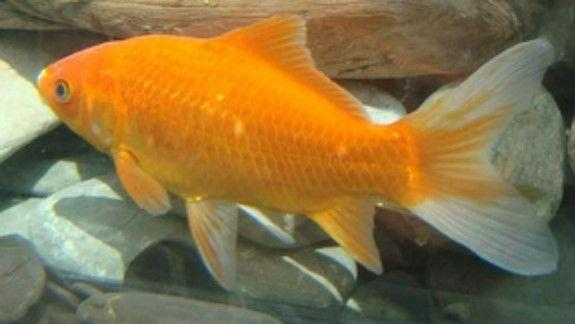Gold Fish: (38, 10, 558, 286)
